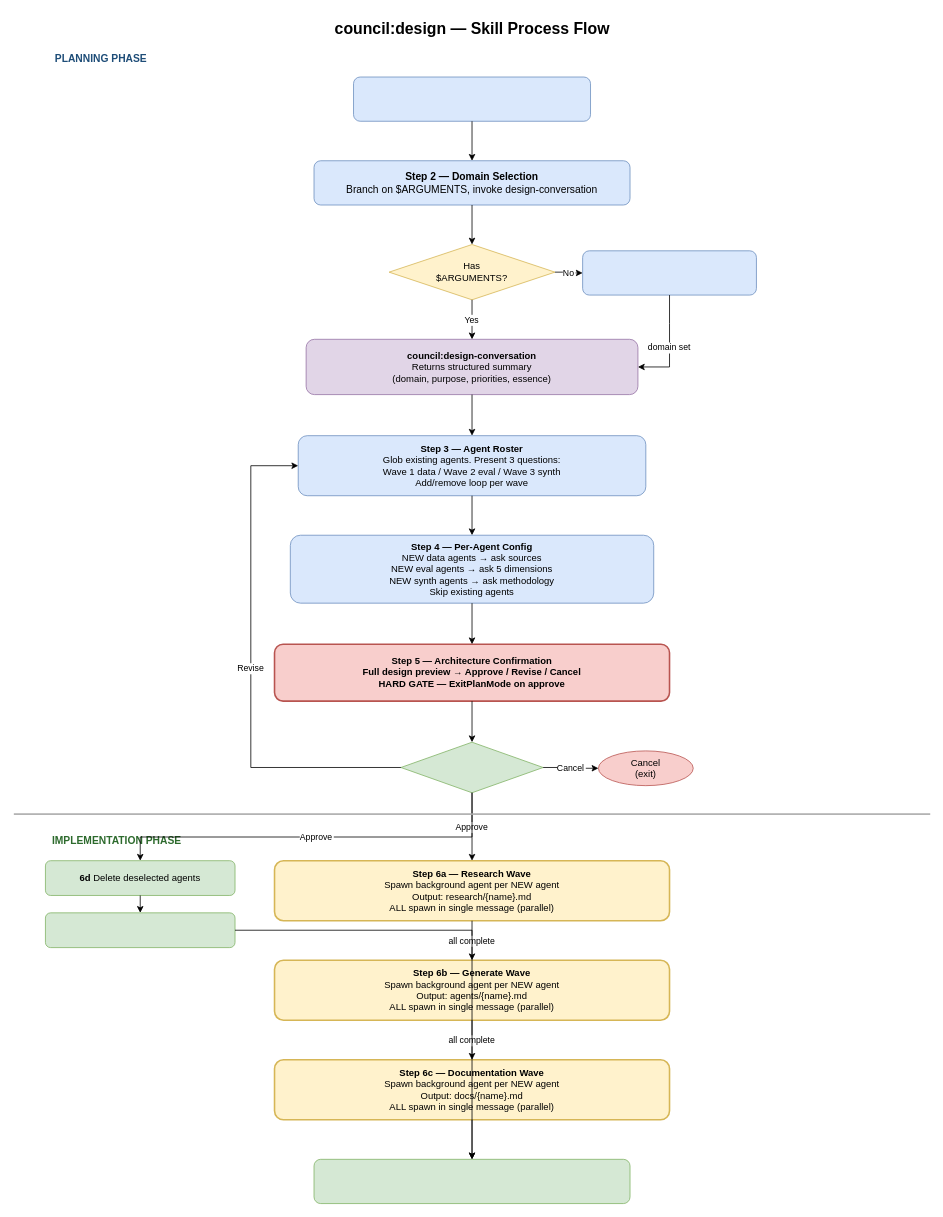
Some shapes in this 943 by 1217 pixel diagram are drawn without their labels. Here are the shapes that lost their labels. From the top down, the centre of each, then its label:
At (x=472, y=98): "Step 1 EnterPlanMode".
At (x=669, y=272): "AskUserQuestion What domain?".
At (x=471, y=767): "Decision?".
At (x=140, y=930): "6e Update README.md".
At (x=471, y=1181): "Step 6f — Report Created/removed/updated files".
